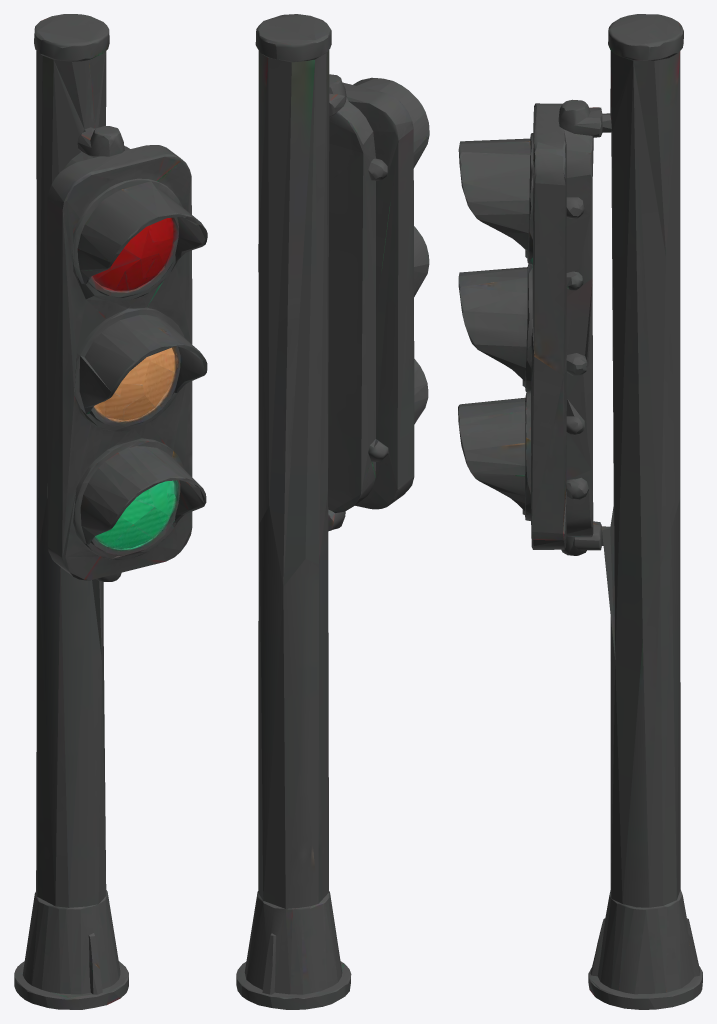
Rendered from traffic_light.glb.
3 views of the same model, side by side, from view 1: azimuth 30°, elevation 25°; view 2: azimuth 150°, elevation 25°; view 3: azimuth 270°, elevation 25° (orthographic).
Parts seen in each view (by area): view 1: Mesh_0; view 2: Mesh_0; view 3: Mesh_0.
Boxes of the visible parts, x1,y1,x2,y2 form: Mesh_0: (14,14,207,1009); Mesh_0: (236,14,429,1009); Mesh_0: (458,14,702,1009).
Bounding box in the file's own units: 0.569 × 4 × 0.9265.
1 material, 1 textured.
